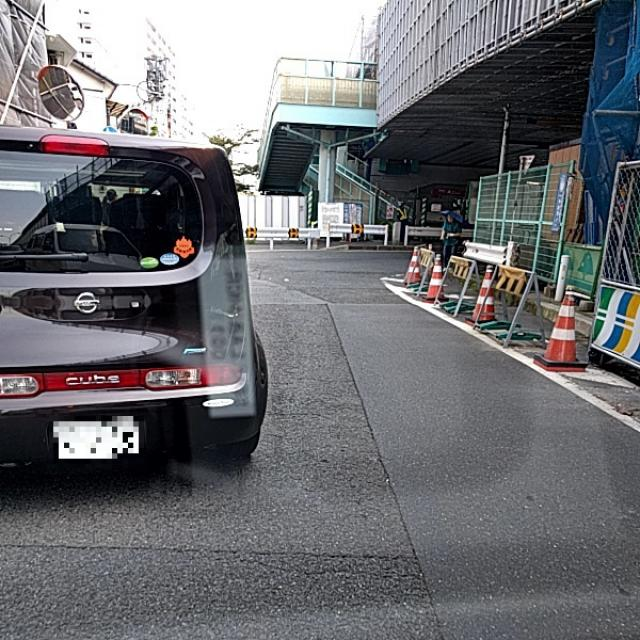pothole: (113, 539, 376, 592)
